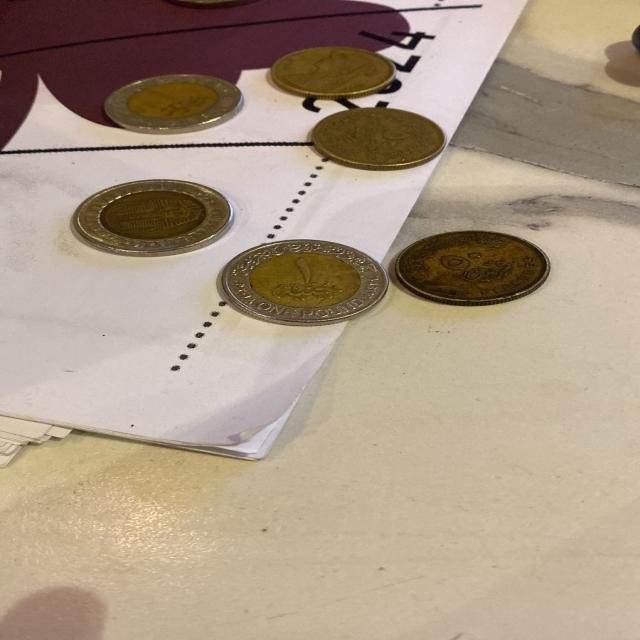Half Pound: (394, 225, 556, 308)
One Pound: (219, 238, 392, 327), (104, 68, 246, 135)
